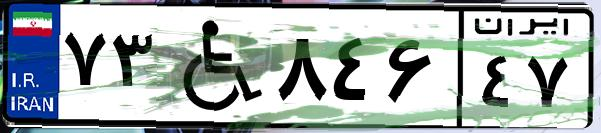3: (110, 28, 158, 98)
4: (330, 28, 385, 110), (475, 38, 525, 113)
6: (385, 28, 445, 110)
7: (57, 26, 110, 100), (525, 38, 570, 115)
8: (270, 28, 330, 110)
ژ (معلولین و جانبازان): (158, 12, 270, 120)
